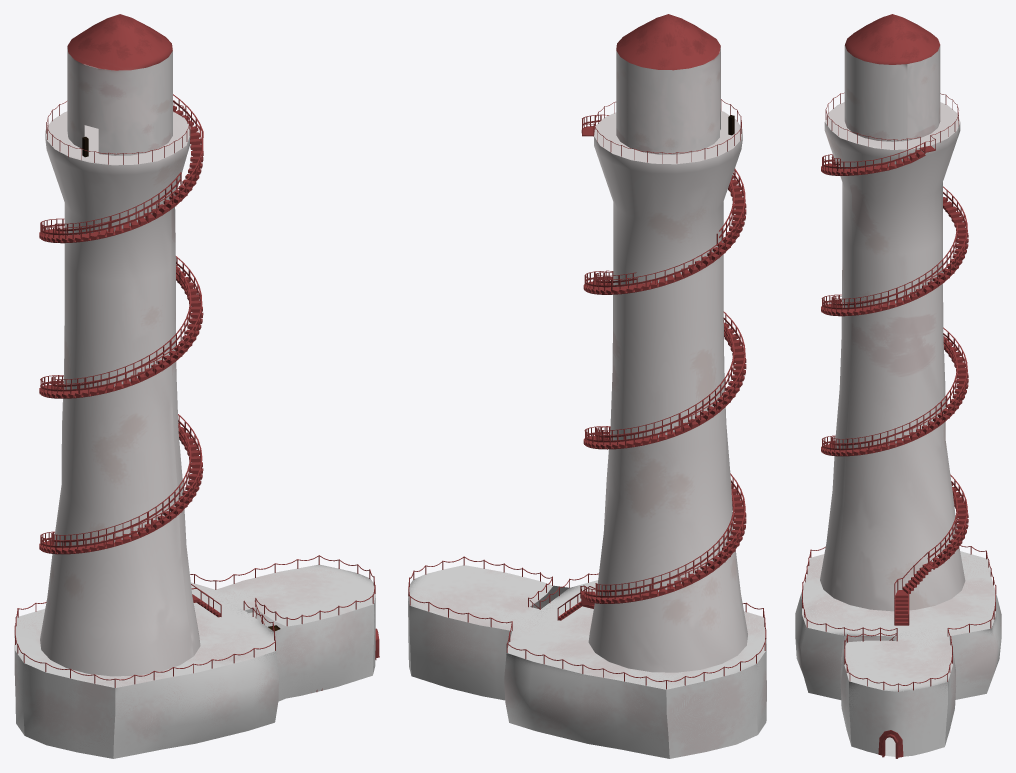
File: Lighthouse.fbx
The picture shows the model from 3 angles, left to right: view 1: azimuth 30°, elevation 25°; view 2: azimuth 150°, elevation 25°; view 3: azimuth 270°, elevation 25°; orthographic projection. The views are drawn at different scales.
Visible parts, largest first — view 1: lighthouse; view 2: lighthouse; view 3: lighthouse.
Boxes of the visible parts, box(x1,y1,x2,y2) form: lighthouse: box(14, 14, 379, 758); lighthouse: box(408, 14, 766, 758); lighthouse: box(795, 14, 1001, 758).
Size of the model in its own units: 572 by 1094 by 323.
Materials: 1 (1 with a texture image).
